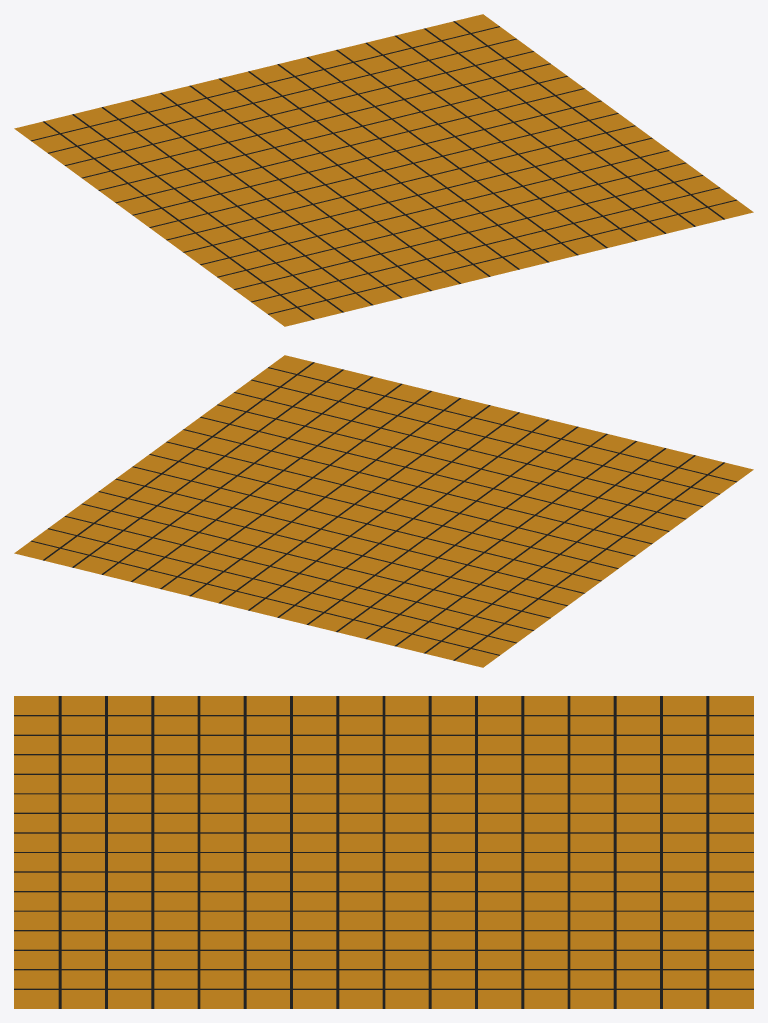
Rendered from tile_plane.obj.
The picture shows the model from 3 angles, top to bottom: view 1: azimuth 30°, elevation 25°; view 2: azimuth 150°, elevation 25°; view 3: azimuth 270°, elevation 25°; orthographic projection. The views are drawn at different scales.
Bounding box in the file's own units: 2 × 0 × 2.
